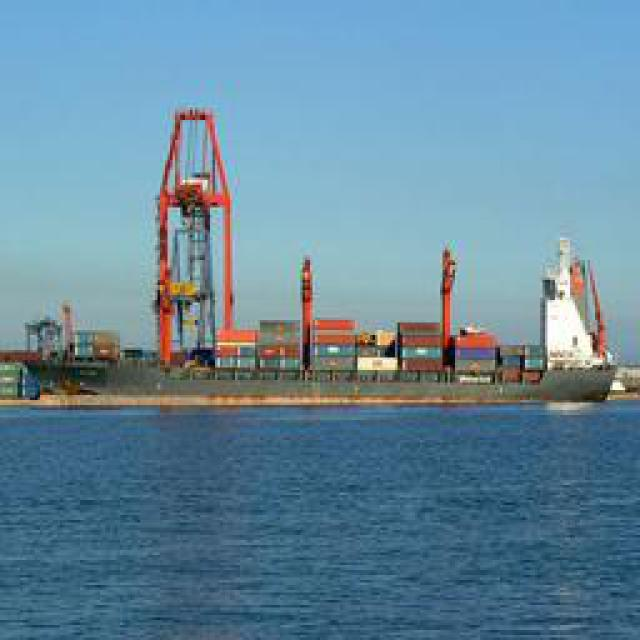Ship: (14, 236, 615, 410)
